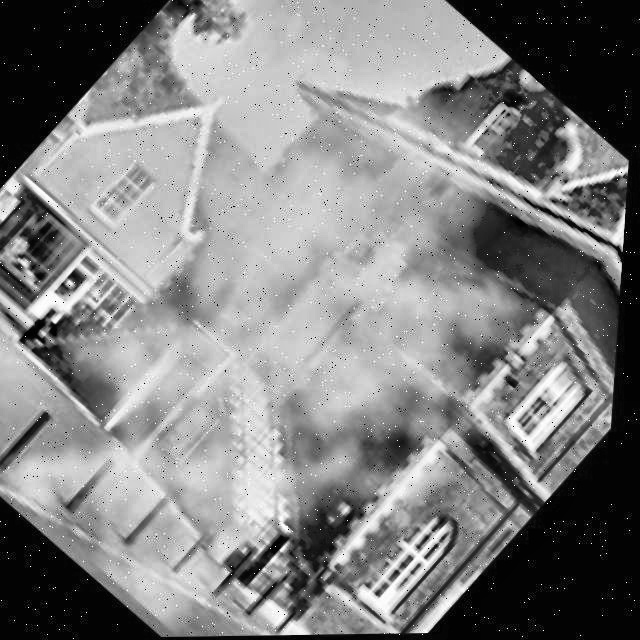Smoke: (0, 0, 630, 637)
